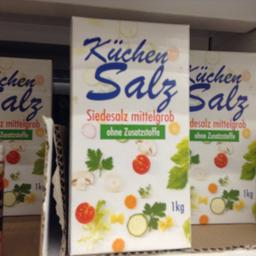spices: (68, 12, 190, 254), (188, 49, 254, 225), (0, 55, 51, 216)
